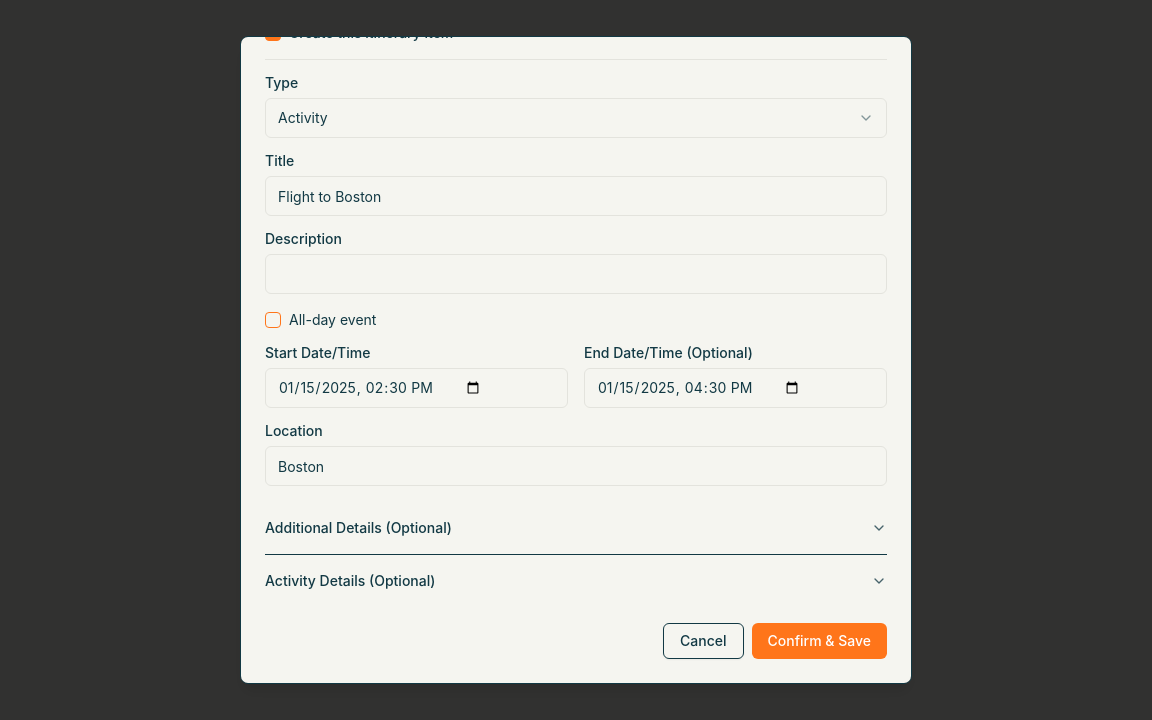
Test: ParsedItemModal - Itinerary Metadata › Type-Specific Metadata › shows ActivityMetadataFields for activity type
(page scrolled)
Click the button "Activity Details (Optional)": (350, 580) [265, 555, 887, 607]
(page scrolled)
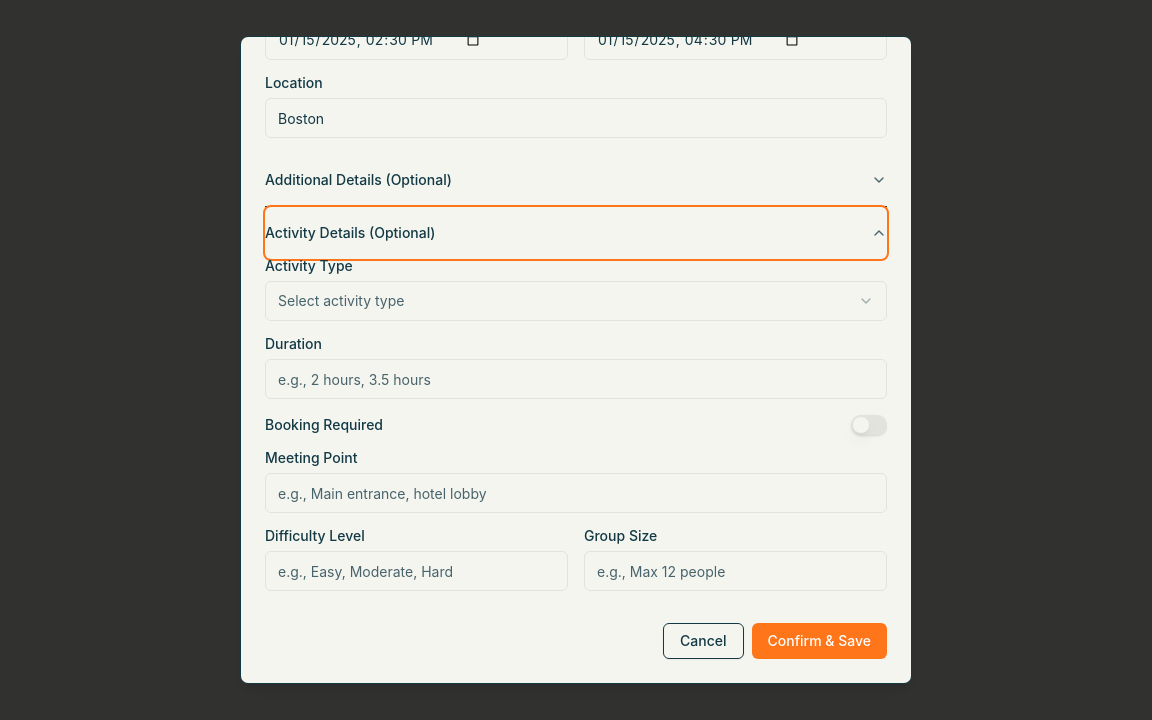
Now the dropdown labelled "Select activity type" is shown, box [265, 281, 887, 321]
Now the field labelled "Duration" is shown, box [265, 359, 887, 399]
